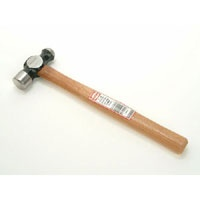hammer: (12, 47, 188, 155)
